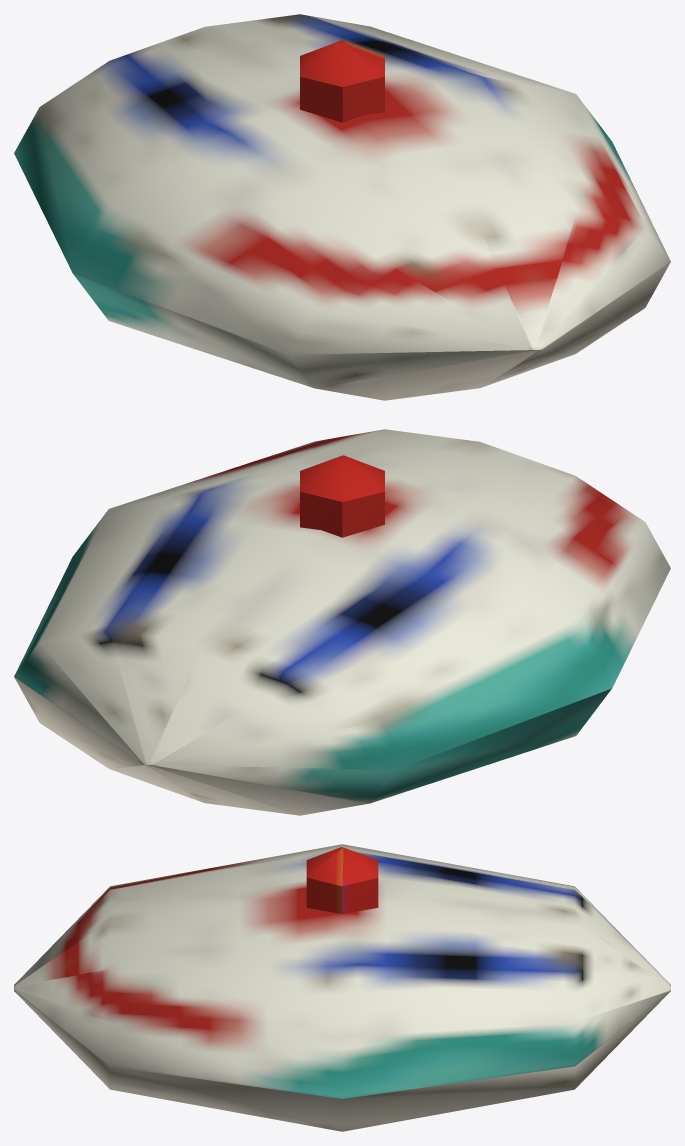
File: clown_mask.obj
3 views of the same model, one above another, from view 1: azimuth 30°, elevation 25°; view 2: azimuth 150°, elevation 25°; view 3: azimuth 270°, elevation 25° (orthographic). The views are drawn at different scales.
Visible parts, largest first — view 1: clown_mask; view 2: clown_mask; view 3: clown_mask.
Part boxes in pixels (x1,y1,x2,y2): clown_mask: (14,14,670,400); clown_mask: (14,429,670,815); clown_mask: (14,844,670,1131).
Bounding box in the file's own units: 0.22 × 0.109 × 0.275.
Materials: 1 (1 with a texture image).
